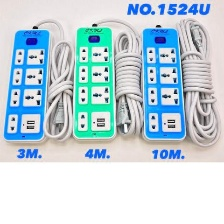three_eye_plug: (1, 27, 54, 145), (138, 24, 188, 144), (70, 25, 120, 143)
